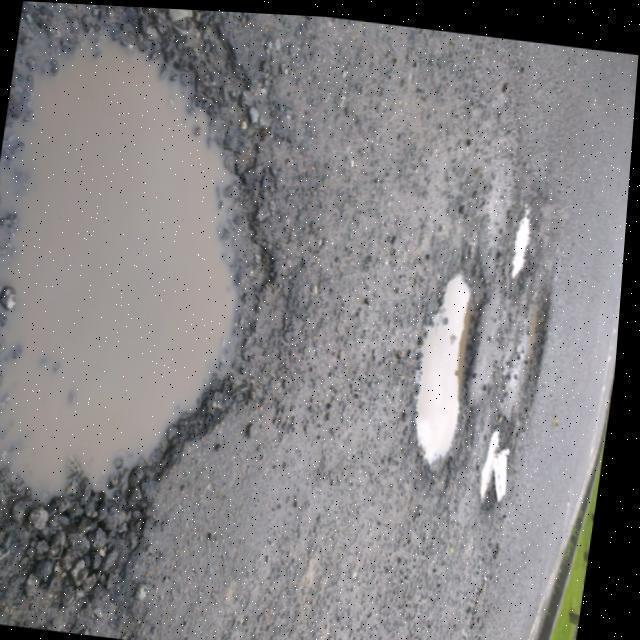Pothole: (0, 2, 280, 632), (416, 274, 471, 464), (480, 431, 510, 501), (511, 209, 530, 278)
